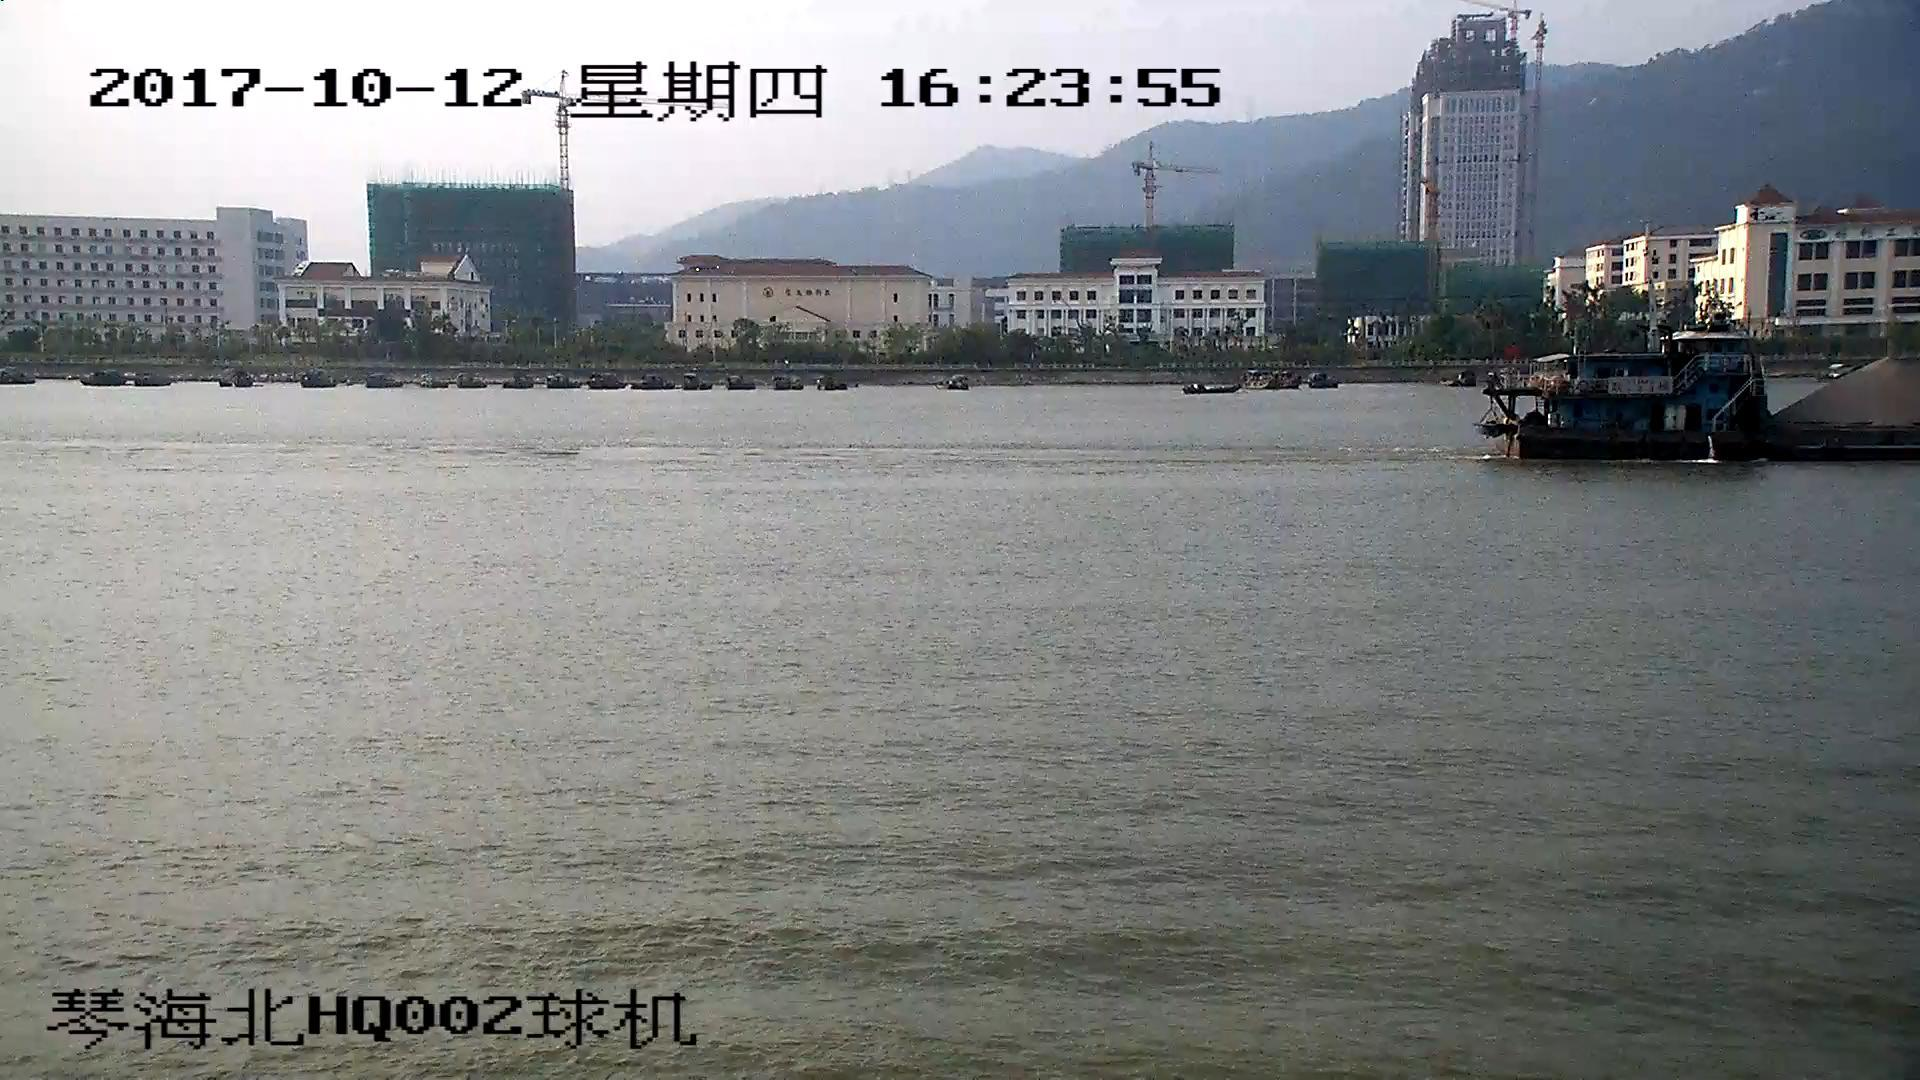Ship: (1491, 335, 1920, 462)
